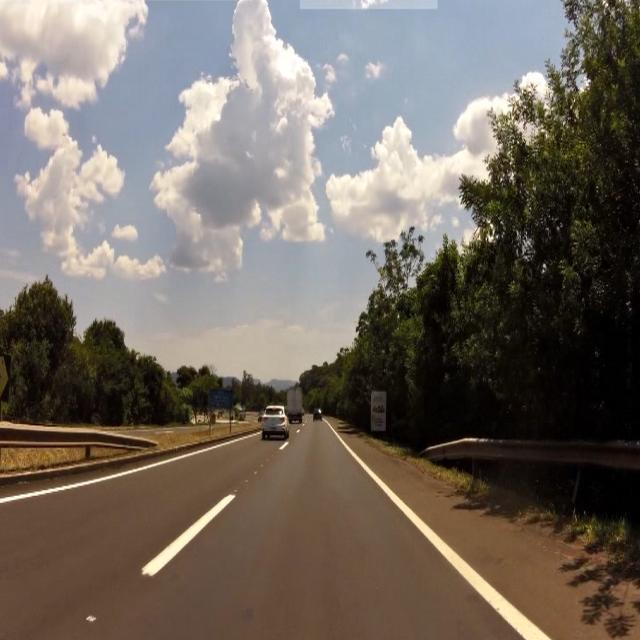Del: (0, 354, 10, 407)
